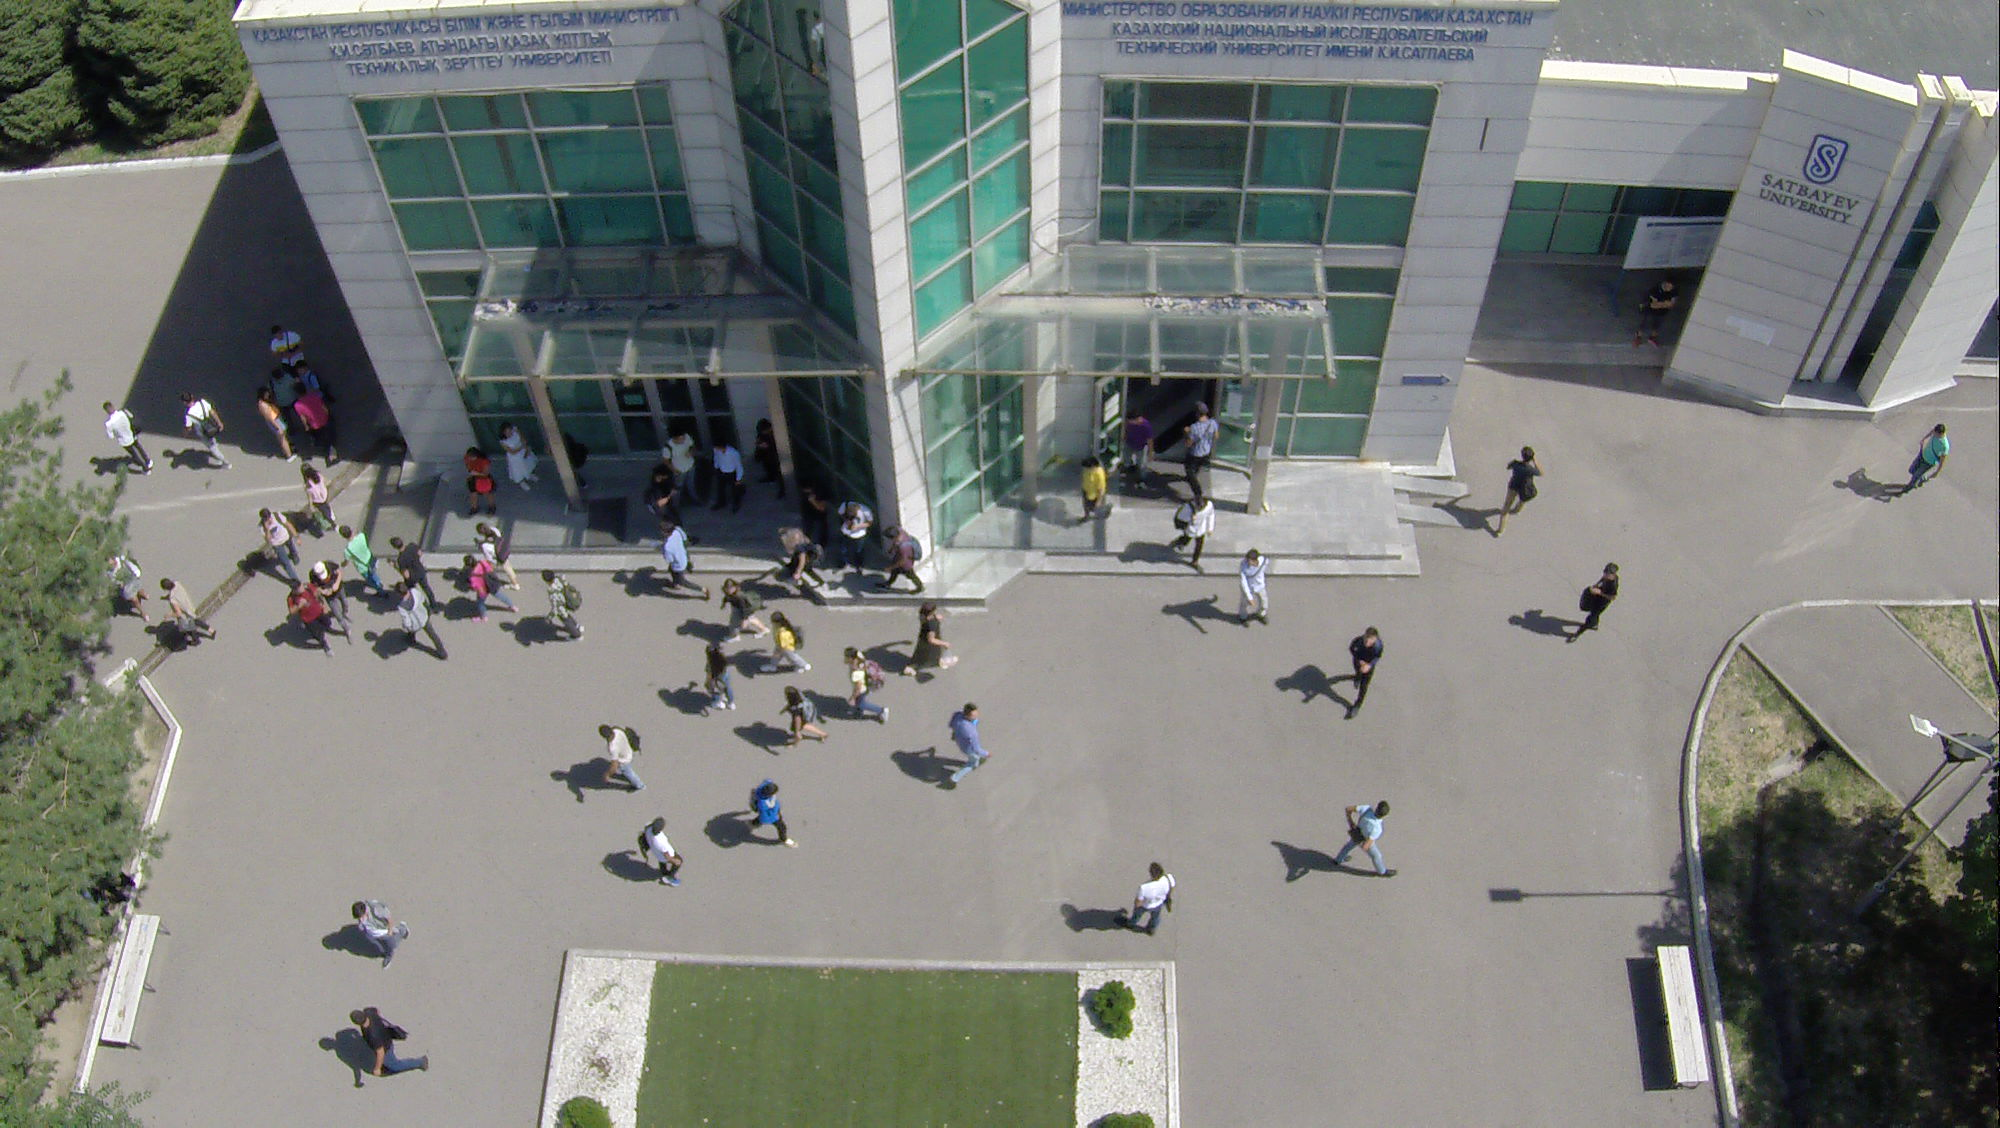person: (350, 997, 442, 1076), (1561, 558, 1623, 656), (1488, 438, 1543, 547), (1327, 795, 1401, 875), (1119, 857, 1180, 945), (387, 580, 451, 663), (347, 895, 416, 972), (155, 574, 219, 651), (101, 390, 159, 472), (593, 718, 652, 798), (1171, 486, 1221, 576), (638, 807, 685, 898), (1343, 622, 1386, 726), (180, 382, 228, 473), (947, 703, 995, 791), (751, 772, 801, 857), (841, 645, 891, 726), (1901, 422, 1951, 503), (906, 603, 958, 680), (656, 522, 707, 599), (462, 554, 516, 624), (286, 580, 330, 665), (293, 380, 336, 466), (343, 525, 389, 607), (543, 566, 587, 648), (776, 523, 826, 596), (1234, 546, 1275, 632), (1181, 401, 1221, 491), (662, 430, 707, 509), (884, 522, 930, 599), (719, 579, 772, 643), (313, 555, 352, 644), (258, 508, 303, 584), (392, 528, 436, 605), (1633, 276, 1680, 347), (780, 684, 828, 753), (760, 611, 808, 678), (255, 386, 293, 466), (1072, 451, 1111, 523), (497, 419, 536, 493), (709, 443, 747, 516), (751, 418, 787, 497), (461, 447, 497, 524), (841, 498, 876, 574), (301, 463, 336, 537), (703, 643, 739, 715), (1122, 408, 1152, 487), (470, 522, 514, 565), (641, 470, 675, 522), (268, 320, 303, 368), (799, 479, 827, 530)
